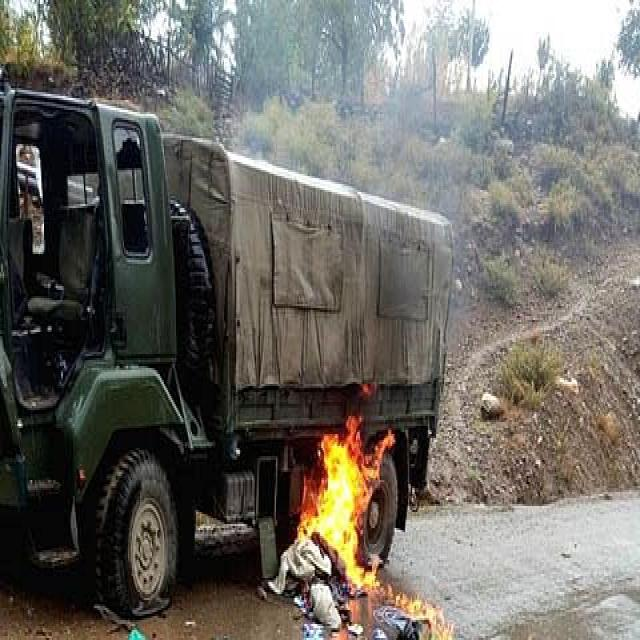accident: (0, 88, 451, 618)
